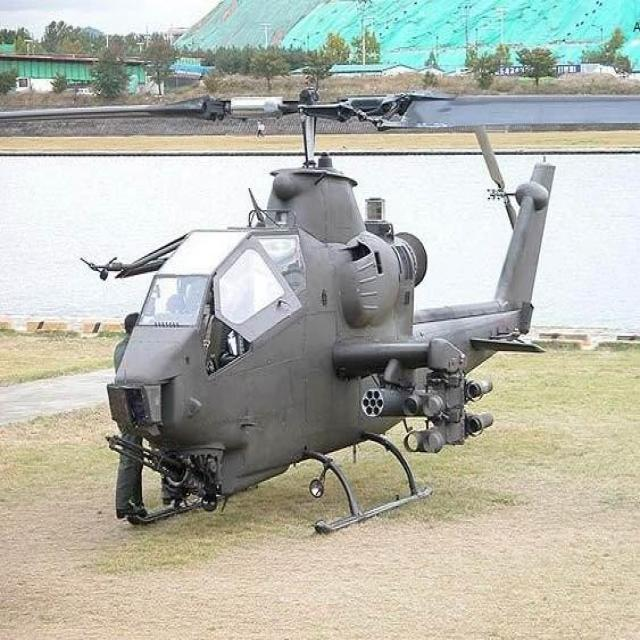MIL_HELO: (36, 60, 562, 535)
